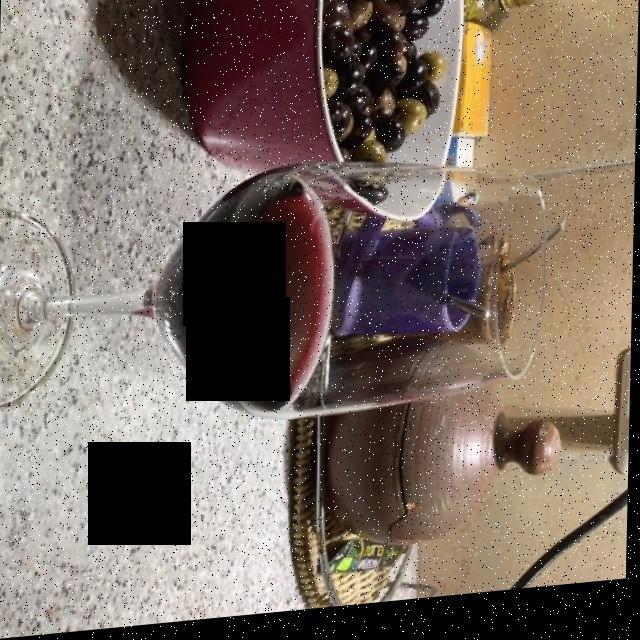wine: (174, 191, 328, 416)
